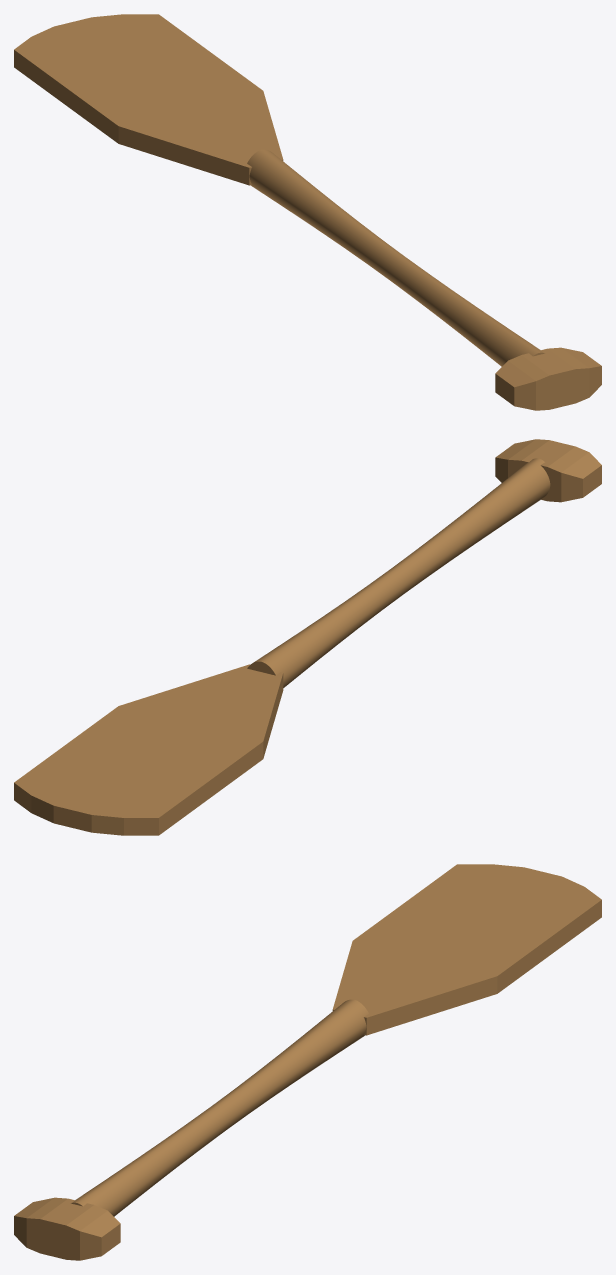
3 renders of one model, top to bottom at view 1: azimuth 30°, elevation 25°; view 2: azimuth 150°, elevation 25°; view 3: azimuth 330°, elevation 25°, orthographic.
Parts seen in each view (by area): view 1: blade, shaft, grip; view 2: blade, shaft, grip; view 3: blade, shaft, grip.
Part boxes in pixels (box(x1,y1,x2,y2)): blade: box(14, 14, 283, 185); shaft: box(247, 149, 544, 366); grip: box(495, 347, 601, 410); blade: box(14, 664, 283, 835); shaft: box(247, 458, 550, 687); grip: box(495, 439, 601, 502); blade: box(332, 864, 601, 1035); shaft: box(71, 999, 368, 1216); grip: box(14, 1197, 120, 1260).
Bounding box in the file's own units: 0.2561 × 0.0649 × 1.5.
